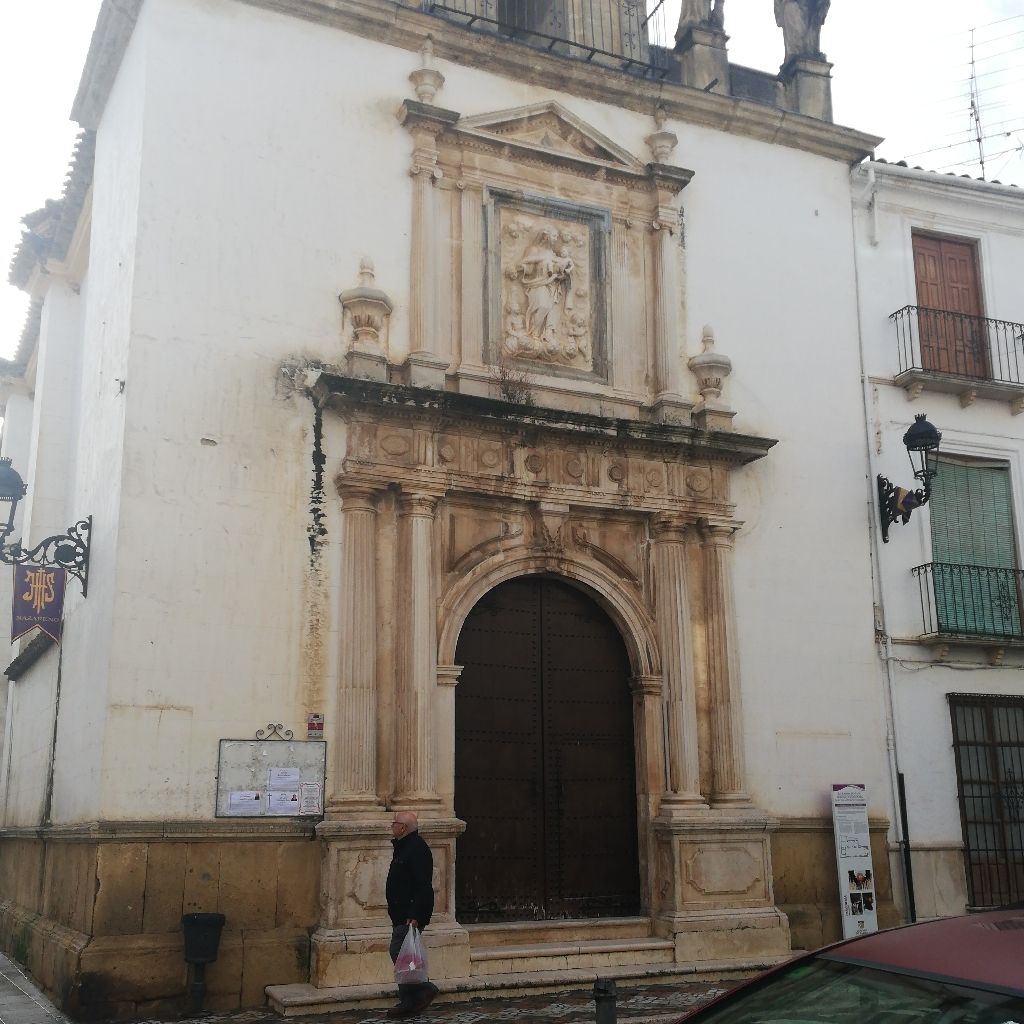arco-medio-punto: (442, 553, 656, 698)
fronton: (452, 97, 651, 176)
